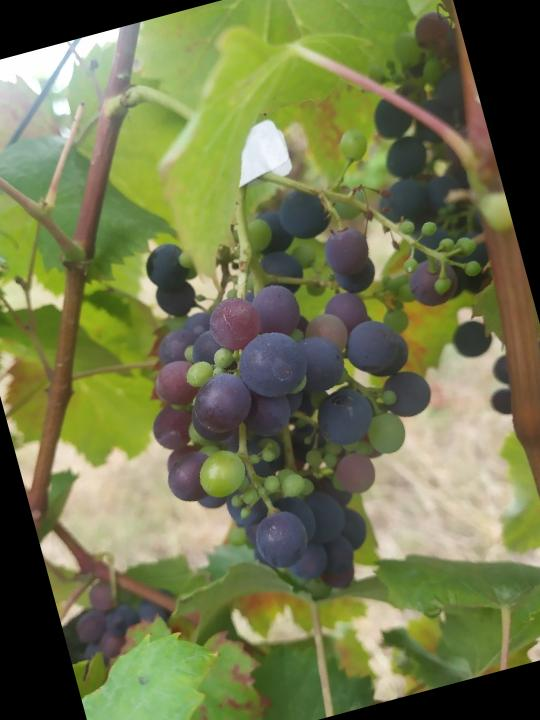grape: (88, 123, 477, 629)
